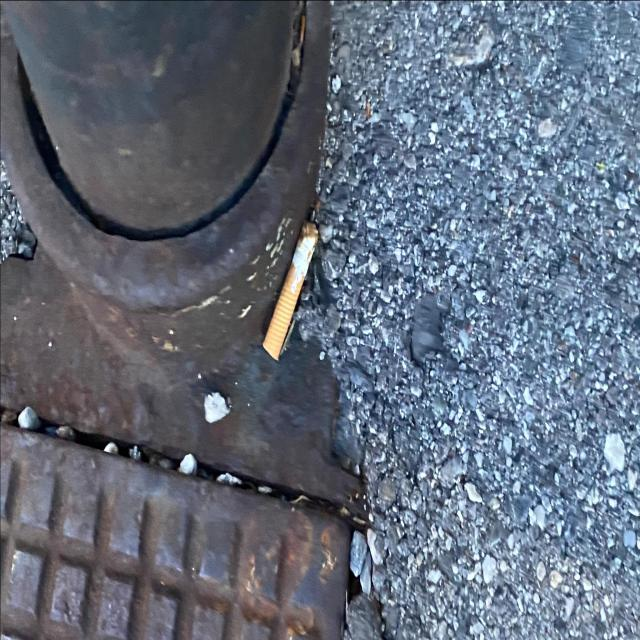other waste: (262, 219, 319, 362)
